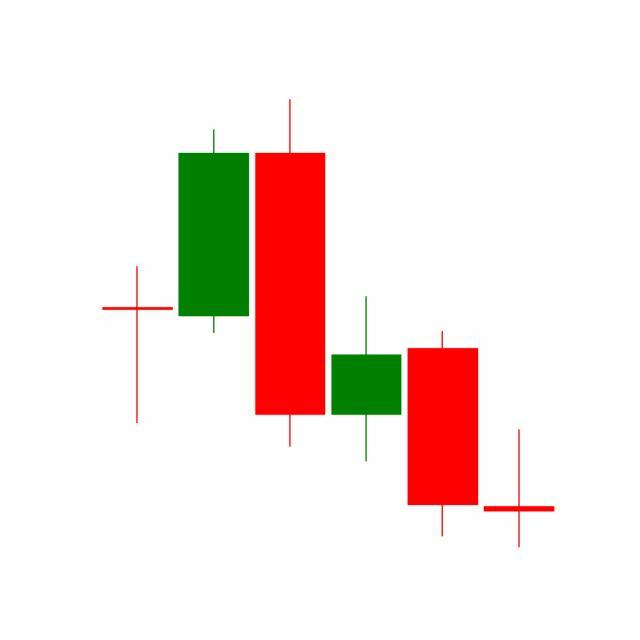Three Outside Up-Down: (326, 293, 555, 548)
